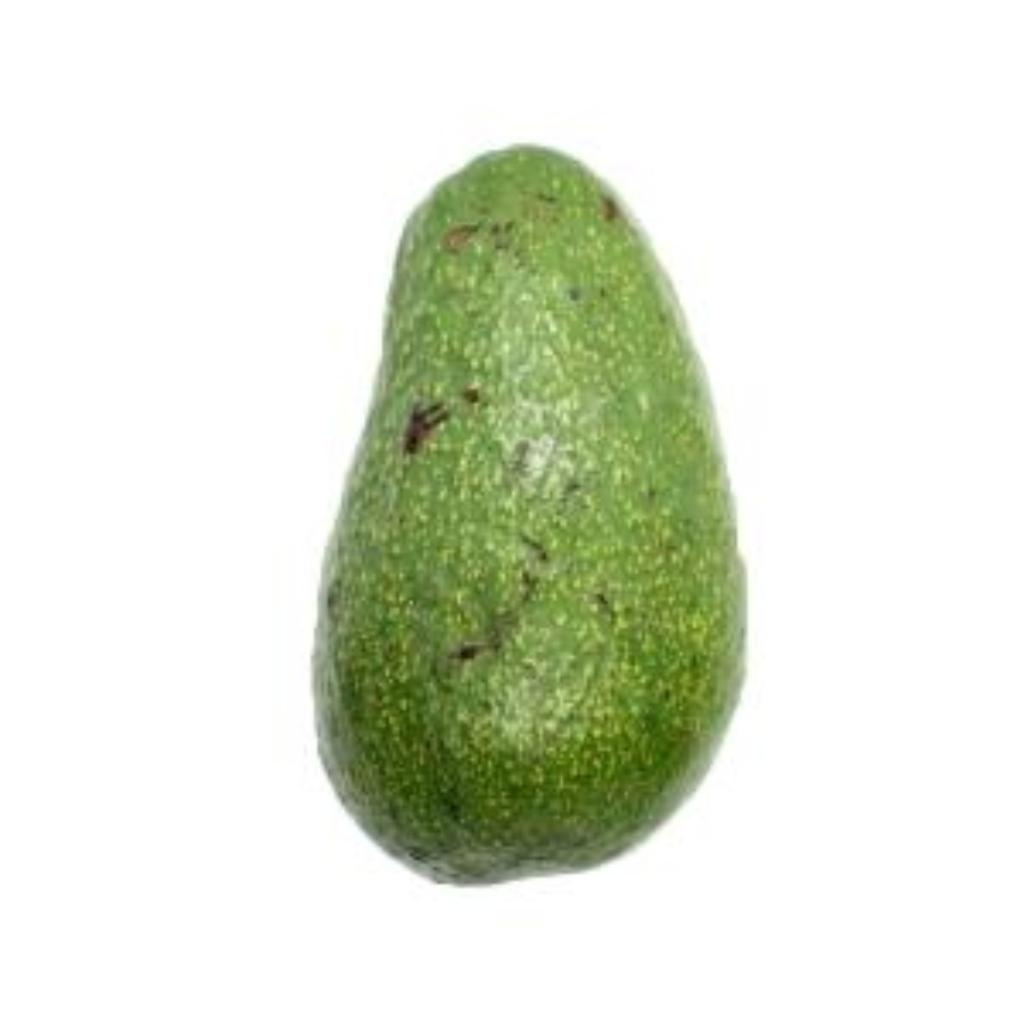cercospora: (282, 124, 767, 882)
